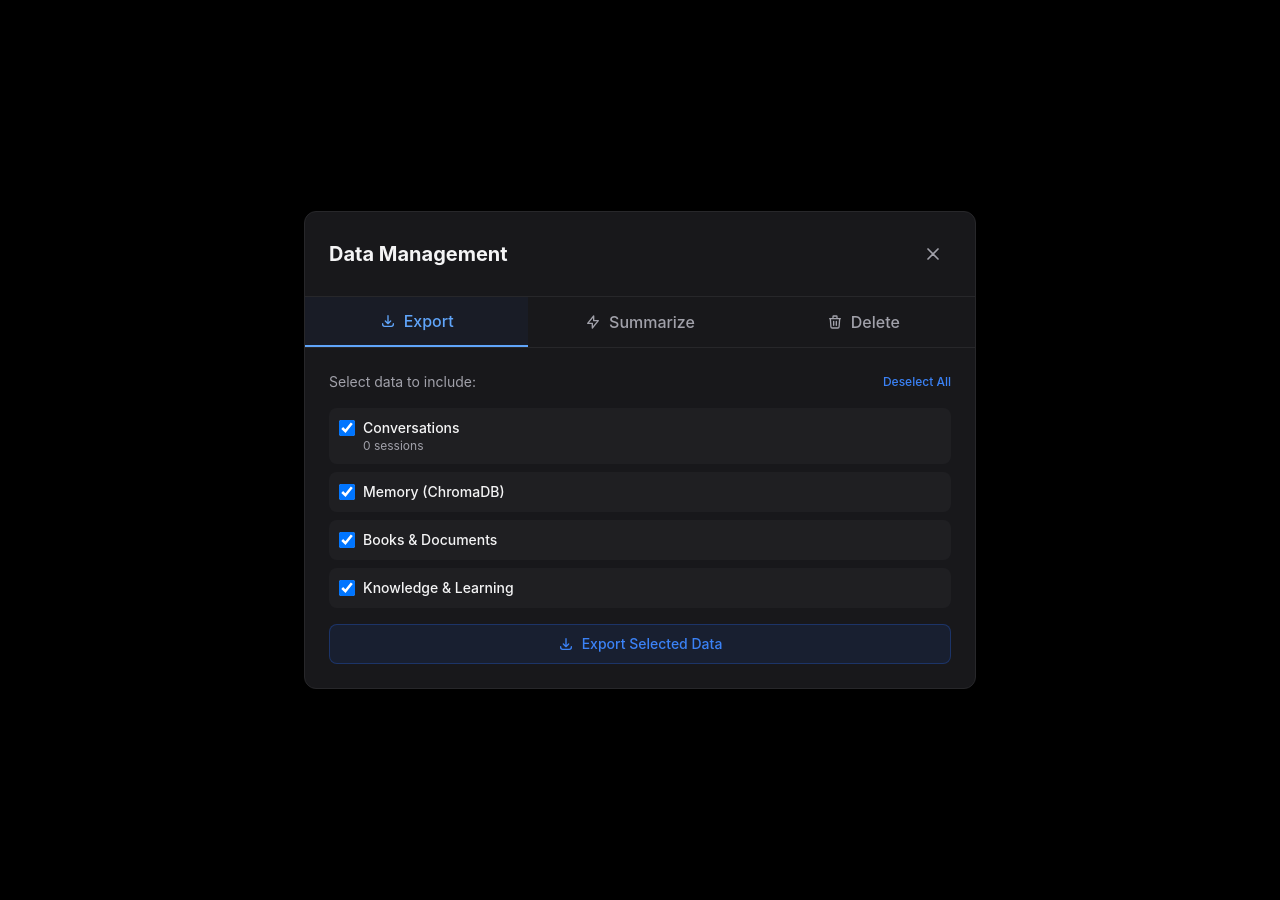
DataManagementModal › Delete Tab › switches to delete tab
Click the button "Delete".
click(863, 322)  # box [752,297,975,347]
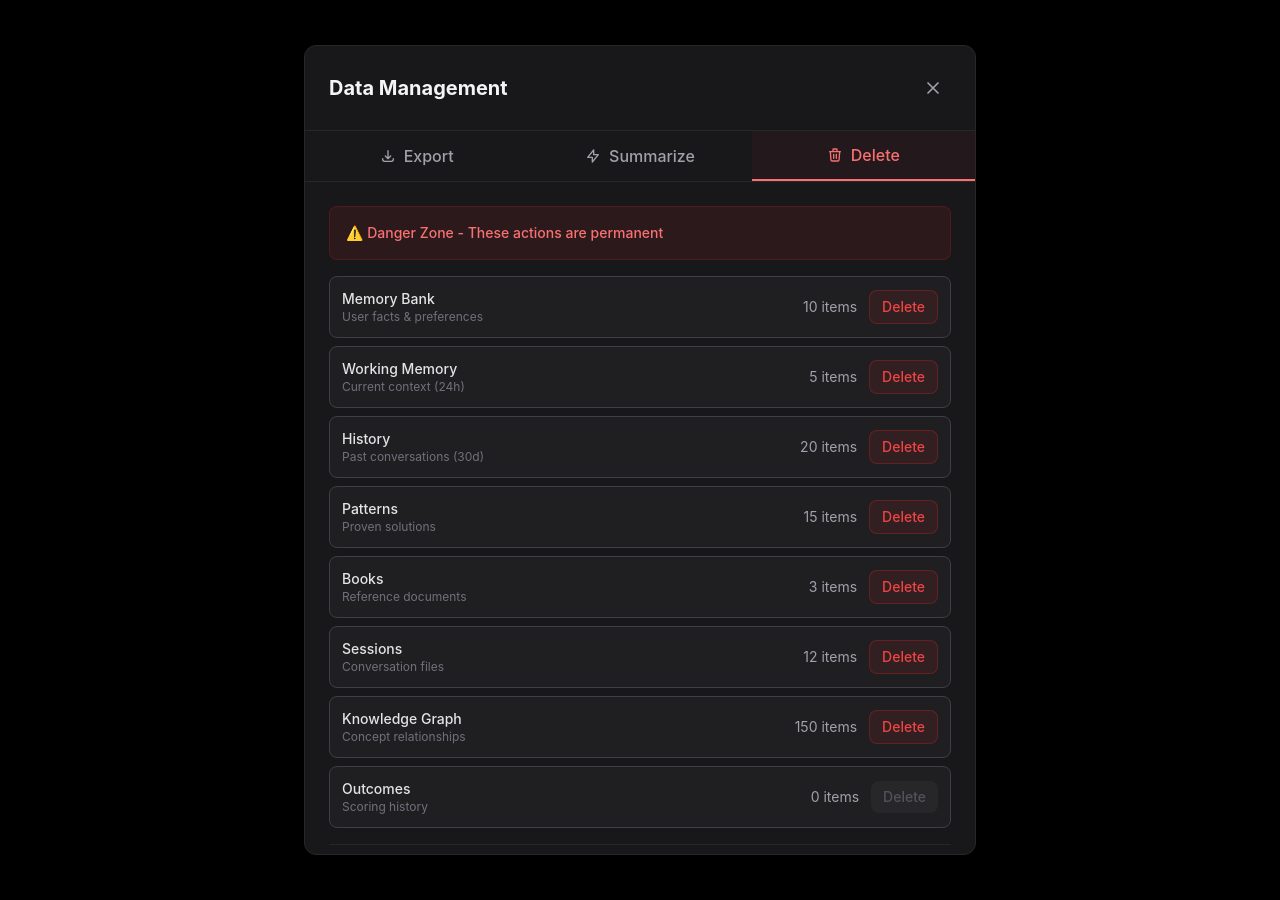
Result: the text "⚠️ Danger Zone - These actions are permanent" is shown at [346,224,663,241]
